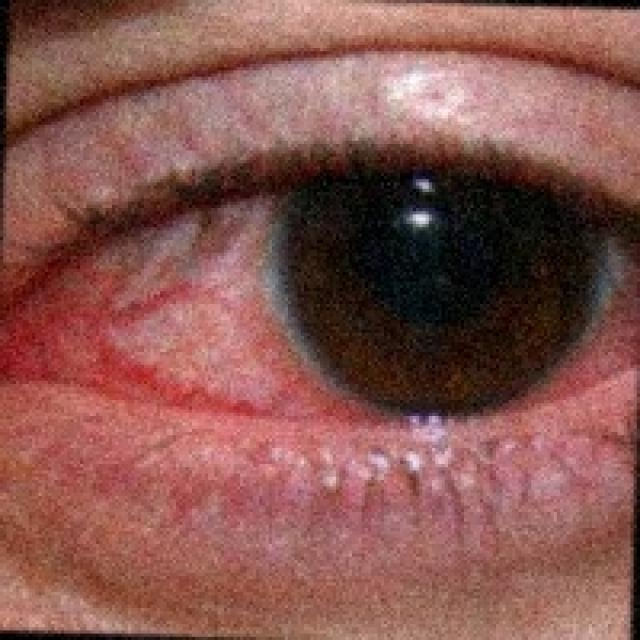Keratitis: (10, 140, 613, 441)
